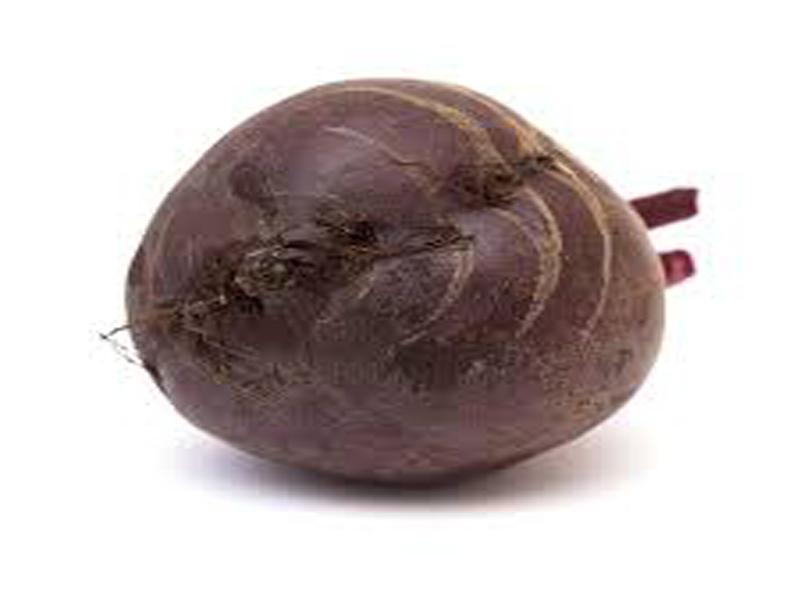Beet: (123, 75, 692, 491)
